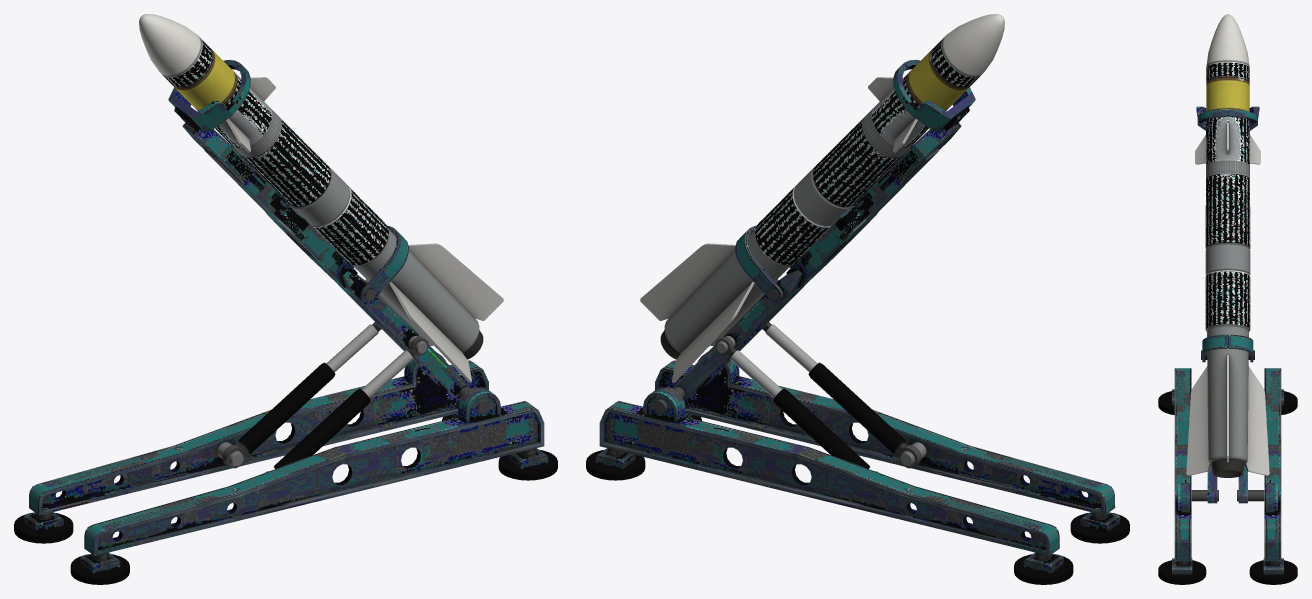
3 renders of one model, left to right at view 1: azimuth 30°, elevation 25°; view 2: azimuth 150°, elevation 25°; view 3: azimuth 270°, elevation 25°, orthographic. The views are drawn at different scales.
Parts seen in each view (by area): view 1: body0_model0_lod0_mesh0, body0_model0_lod0_mesh1; view 2: body0_model0_lod0_mesh0, body0_model0_lod0_mesh1; view 3: body0_model0_lod0_mesh1, body0_model0_lod0_mesh0.
Boxes of the visible parts, x1,y1,x2,y2 form: body0_model0_lod0_mesh0: [14, 60, 557, 584]; body0_model0_lod0_mesh1: [139, 14, 503, 382]; body0_model0_lod0_mesh0: [586, 59, 1129, 584]; body0_model0_lod0_mesh1: [640, 14, 1004, 382]; body0_model0_lod0_mesh1: [1186, 14, 1269, 477]; body0_model0_lod0_mesh0: [1158, 106, 1297, 584].
Bounding box in the file's own units: 433 × 448 × 135.
Materials: 2 (2 with a texture image).
